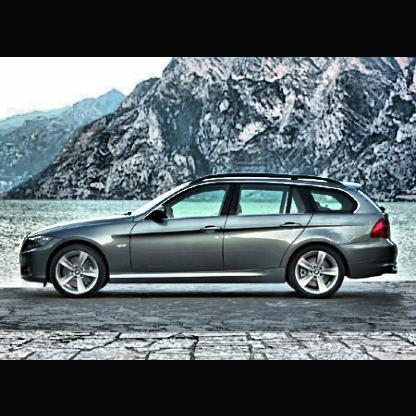BMW 3 Series Wagon 2012: (20, 172, 399, 300)
